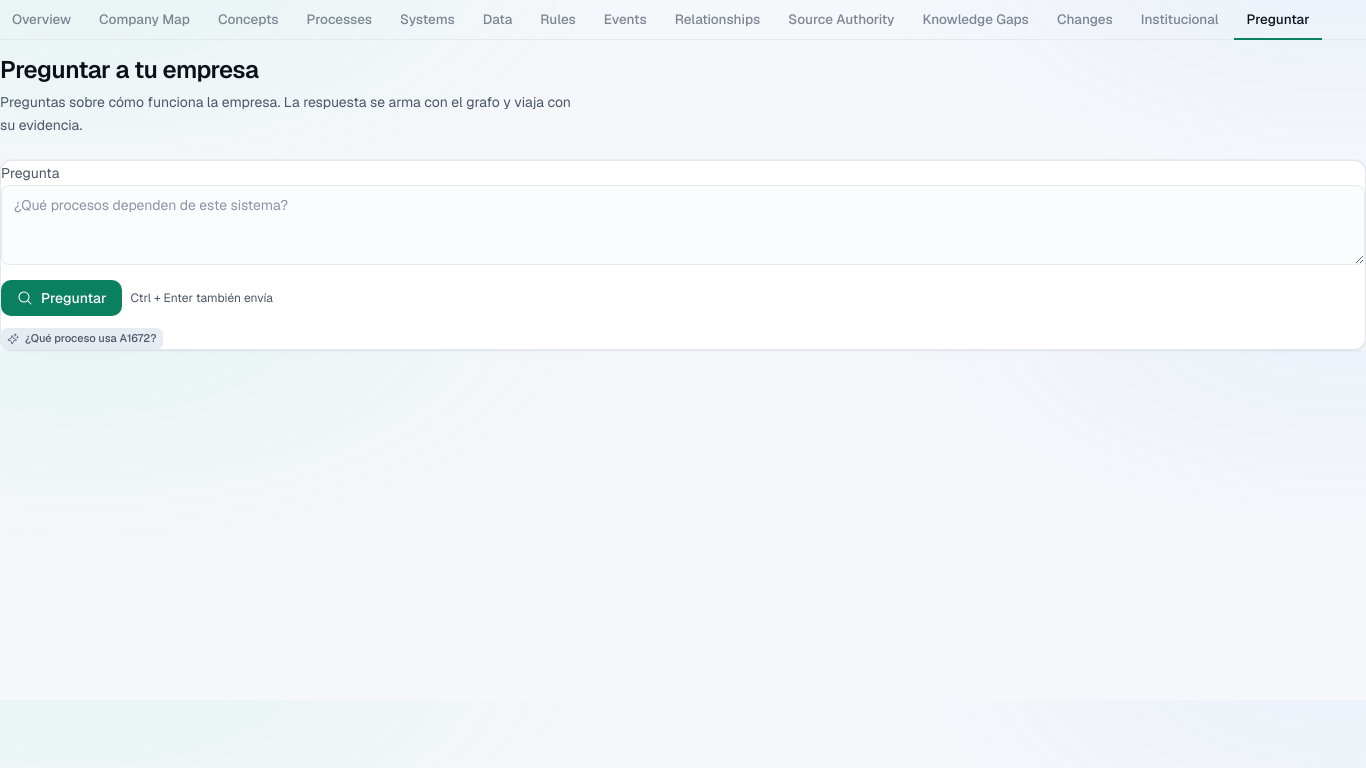
Test: CompanyAskPage › responde con evidencia y declara el proveedor de juicio
The width and height of the screenshot is (1366, 768).
Step 1. Type "¿Dónde se representa Carrier Code?" into the text box → (683,225), box [1, 185, 1365, 265]
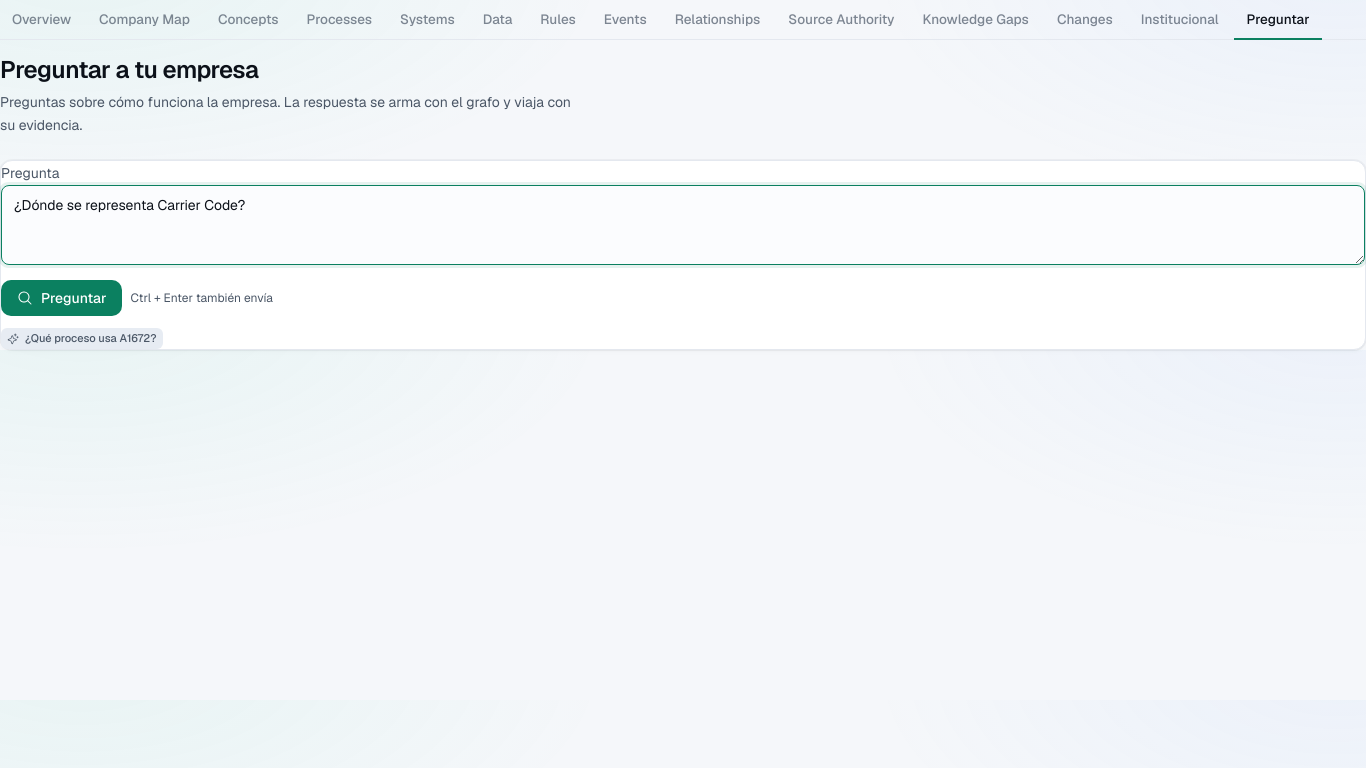
Step 2. Click the button "Preguntar" → (62,298), box [1, 280, 122, 316]
(page scrolled)
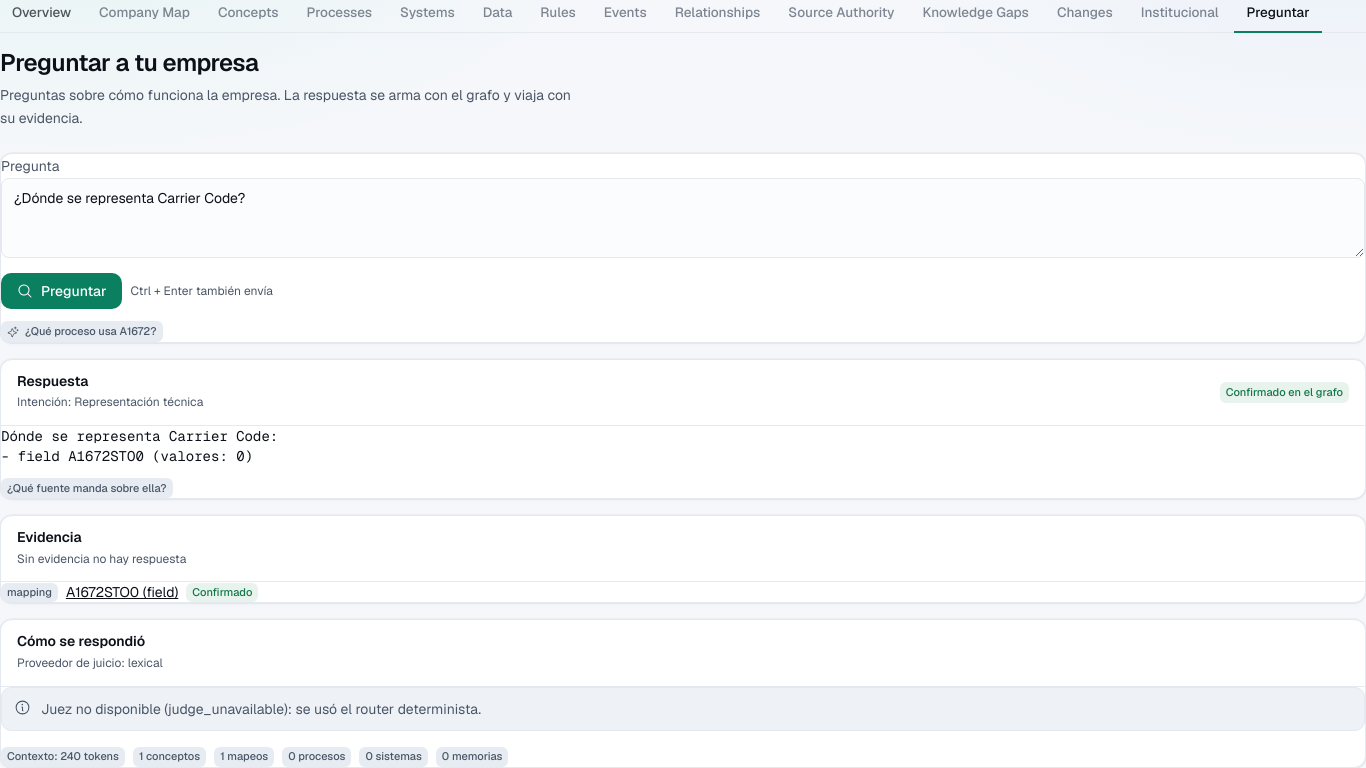
Expected: the text with test id "company-answer" is shown, [1, 427, 278, 465]
Expected: the list with test id "company-evidence" is shown, [1, 583, 258, 602]
Expected: the text "router determinista" is shown, [41, 700, 481, 718]
